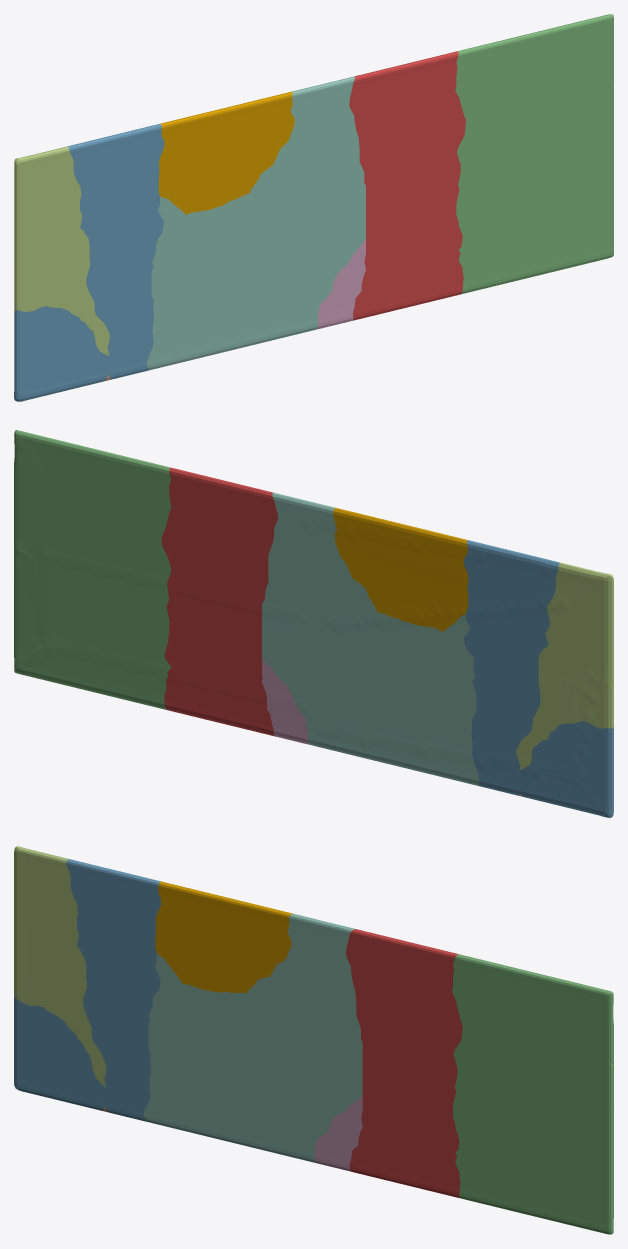
Rendered from fractured_19_8pcs.glb.
The picture shows the model from 3 angles, top to bottom: view 1: azimuth 30°, elevation 25°; view 2: azimuth 150°, elevation 25°; view 3: azimuth 330°, elevation 25°; orthographic projection.
Visible parts, largest first — view 1: piece_3.obj, piece_4.obj, piece_1.obj, piece_2.obj, piece_5.obj, piece_0.obj, piece_6.obj; view 2: piece_3.obj, piece_4.obj, piece_1.obj, piece_2.obj, piece_5.obj, piece_0.obj, piece_6.obj; view 3: piece_3.obj, piece_4.obj, piece_1.obj, piece_2.obj, piece_5.obj, piece_0.obj, piece_6.obj.
Boxes of the visible parts, x1=… form: piece_3.obj: x1=455, y1=14, x2=613, y2=294; piece_4.obj: x1=147, y1=76, x2=365, y2=370; piece_1.obj: x1=349, y1=51, x2=465, y2=320; piece_2.obj: x1=14, y1=124, x2=164, y2=401; piece_5.obj: x1=14, y1=146, x2=109, y2=355; piece_0.obj: x1=158, y1=91, x2=294, y2=214; piece_6.obj: x1=317, y1=239, x2=365, y2=329; piece_3.obj: x1=14, y1=430, x2=171, y2=709; piece_4.obj: x1=262, y1=492, x2=479, y2=785; piece_1.obj: x1=161, y1=467, x2=277, y2=736; piece_2.obj: x1=463, y1=540, x2=613, y2=817; piece_5.obj: x1=516, y1=562, x2=613, y2=770; piece_0.obj: x1=333, y1=508, x2=468, y2=631; piece_6.obj: x1=262, y1=657, x2=308, y2=744; piece_3.obj: x1=452, y1=954, x2=613, y2=1234; piece_4.obj: x1=143, y1=913, x2=362, y2=1162; piece_1.obj: x1=346, y1=929, x2=462, y2=1197; piece_2.obj: x1=14, y1=859, x2=160, y2=1121; piece_5.obj: x1=14, y1=846, x2=106, y2=1087; piece_0.obj: x1=155, y1=881, x2=292, y2=993; piece_6.obj: x1=314, y1=1096, x2=362, y2=1171.
Bounding box in the file's own units: 1 × 0.3887 × 0.0104.
